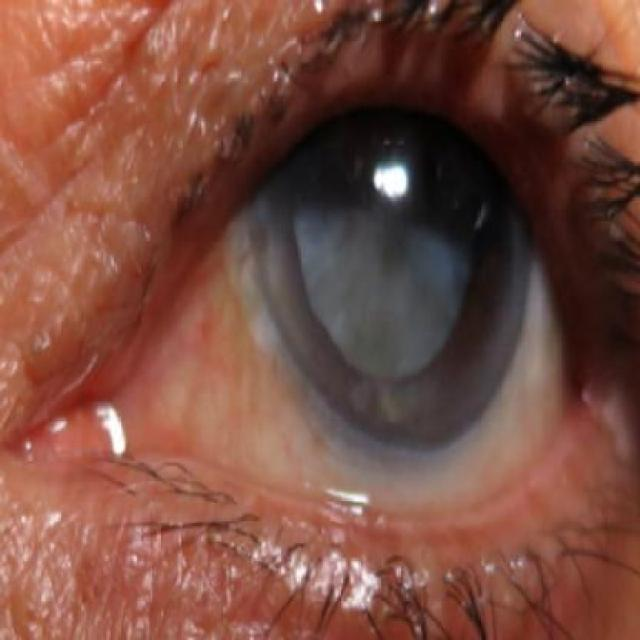Cataract: (251, 66, 534, 456)
